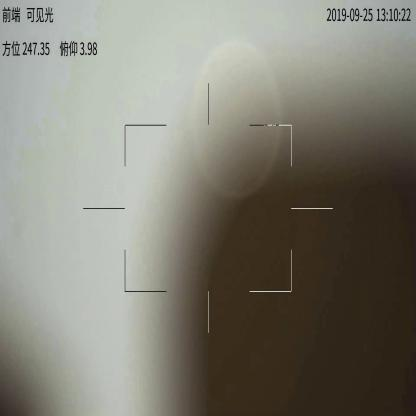uav: (79, 84, 83, 90)
